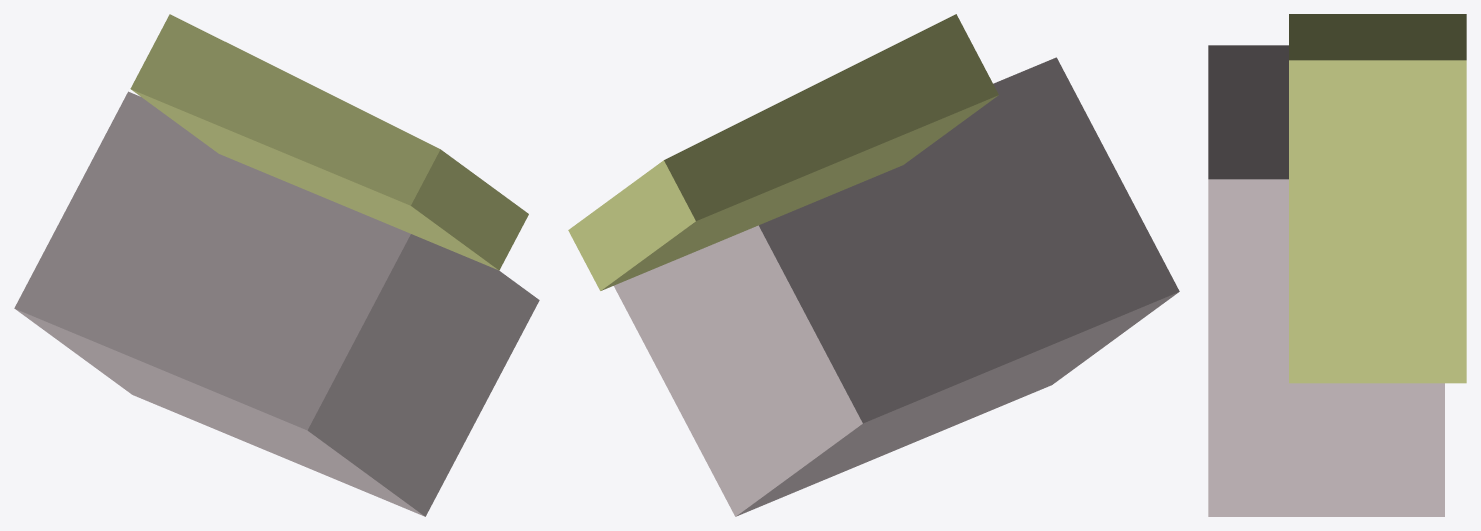
3 renders of one model, left to right at view 1: azimuth 30°, elevation 25°; view 2: azimuth 150°, elevation 25°; view 3: azimuth 270°, elevation 25°, orthographic. The views are drawn at different scales.
Parts seen in each view (by area): view 1: 0_0_1_2_0_0_0_0_3; view 2: 0_0_1_2_0_0_0_0_3; view 3: 0_0_1_2_0_0_0_0_3.
Part boxes in pixels (x1,y1,x2,y2): 0_0_1_2_0_0_0_0_3: [14, 14, 539, 516]; 0_0_1_2_0_0_0_0_3: [568, 14, 1179, 516]; 0_0_1_2_0_0_0_0_3: [1208, 14, 1466, 516].
Bounding box in the file's own units: 25.65 × 24.64 × 13.1.
